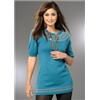t-shirt: (27, 29, 74, 95)
